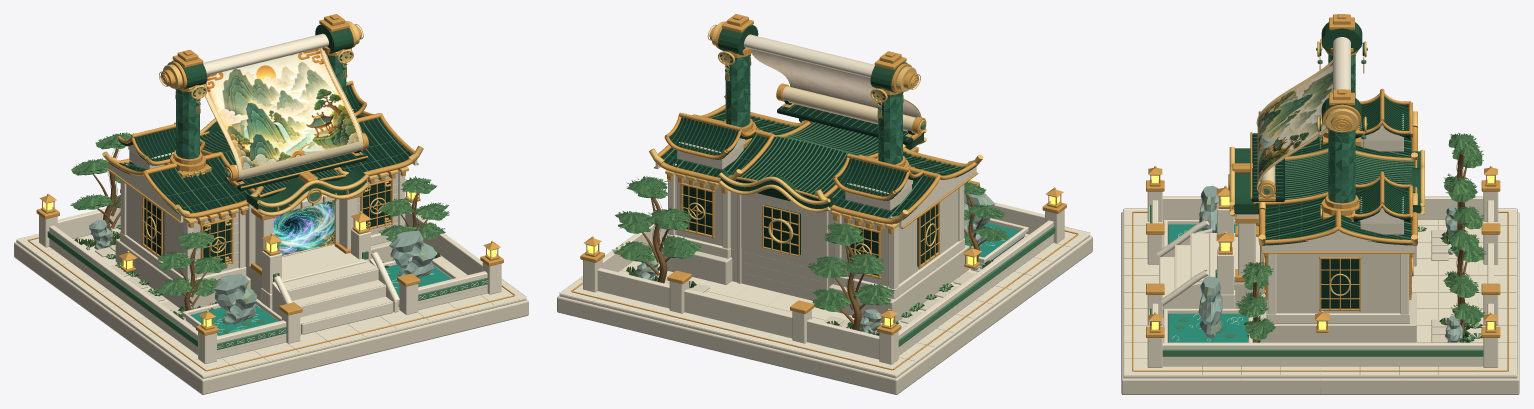
File: relic-v20.glb
3 views of the same model, side by side, from view 1: azimuth 30°, elevation 25°; view 2: azimuth 150°, elevation 25°; view 3: azimuth 270°, elevation 25° (orthographic). The views are drawn at different scales.
Parts seen in each view (by area): view 1: GEO-export-MAT-relic-cream.019, GEO-export-MAT-relic-ivory.019, GEO-export-MAT-relic-rolled-front-v16.008, GEO-export-MAT-relic-gold.019, GEO-export-MAT-relic-jade-dark.019, GEO-export-MAT-relic-v20-needle-mid, GEO-export-MAT-relic-jade-light.019, GEO-export-MAT-relic-gold-light.019, GEO-export-MAT-relic-rock.019, GEO-export-MAT-relic-jade.019, GEO-export-MAT-relic-v17-portal-energy.006, GEO-export-MAT-relic-v20-needle-lit (+8 smaller); view 2: GEO-export-MAT-relic-cream.019, GEO-export-MAT-relic-ivory.019, GEO-export-MAT-relic-jade-dark.019, GEO-export-MAT-relic-gold.019, GEO-export-MAT-relic-v20-needle-mid, GEO-export-MAT-relic-jade-light.019, GEO-export-MAT-relic-gold-light.019, GEO-export-MAT-relic-scroll-painted-back.012, GEO-export-MAT-relic-jade-mid.019, GEO-export-MAT-relic-v20-needle-lit, GEO-export-MAT-relic-jade.019, GEO-export-MAT-relic-wood.019 (+8 smaller); view 3: GEO-export-MAT-relic-cream.019, GEO-export-MAT-relic-ivory.019, GEO-export-MAT-relic-gold.019, GEO-export-MAT-relic-jade-dark.019, GEO-export-MAT-relic-jade-light.019, GEO-export-MAT-relic-v20-needle-mid, GEO-export-MAT-relic-rolled-front-v16.008, GEO-export-MAT-relic-jade-mid.019, GEO-export-MAT-relic-gold-light.019, GEO-export-MAT-relic-jade.019, GEO-export-MAT-relic-rock.019, GEO-export-MAT-relic-v20-needle-lit (+8 smaller).
Boxes of the visible parts, <box> form: GEO-export-MAT-relic-cream.019: <box>16,33,526,378</box>; GEO-export-MAT-relic-ivory.019: <box>14,109,528,394</box>; GEO-export-MAT-relic-rolled-front-v16.008: <box>203,47,363,179</box>; GEO-export-MAT-relic-gold.019: <box>27,14,515,371</box>; GEO-export-MAT-relic-jade-dark.019: <box>108,85,411,263</box>; GEO-export-MAT-relic-v20-needle-mid: <box>70,132,449,296</box>; GEO-export-MAT-relic-jade-light.019: <box>47,55,488,349</box>; GEO-export-MAT-relic-gold-light.019: <box>42,21,498,319</box>; GEO-export-MAT-relic-rock.019: <box>86,220,436,327</box>; GEO-export-MAT-relic-jade.019: <box>171,24,366,212</box>; GEO-export-MAT-relic-v17-portal-energy.006: <box>273,200,334,255</box>; GEO-export-MAT-relic-v20-needle-lit: <box>71,134,449,296</box>; GEO-export-MAT-relic-cream.019: <box>559,34,1090,378</box>; GEO-export-MAT-relic-ivory.019: <box>557,142,1092,394</box>; GEO-export-MAT-relic-jade-dark.019: <box>661,100,976,275</box>; GEO-export-MAT-relic-gold.019: <box>571,14,1078,370</box>; GEO-export-MAT-relic-v20-needle-mid: <box>612,176,1008,311</box>; GEO-export-MAT-relic-jade-light.019: <box>664,54,1055,346</box>; GEO-export-MAT-relic-gold-light.019: <box>585,21,1060,318</box>; GEO-export-MAT-relic-scroll-painted-back.012: <box>751,49,919,117</box>; GEO-export-MAT-relic-jade-mid.019: <box>665,116,965,217</box>; GEO-export-MAT-relic-v20-needle-lit: <box>616,178,1007,311</box>; GEO-export-MAT-relic-jade.019: <box>718,25,923,208</box>; GEO-export-MAT-relic-wood.019: <box>641,194,986,330</box>; GEO-export-MAT-relic-cream.019: <box>1123,37,1517,378</box>; GEO-export-MAT-relic-ivory.019: <box>1121,114,1519,394</box>; GEO-export-MAT-relic-gold.019: <box>1132,14,1508,371</box>; GEO-export-MAT-relic-jade-dark.019: <box>1251,98,1414,308</box>; GEO-export-MAT-relic-jade-light.019: <box>1150,48,1483,356</box>; GEO-export-MAT-relic-v20-needle-mid: <box>1236,133,1486,339</box>; GEO-export-MAT-relic-rolled-front-v16.008: <box>1257,61,1332,184</box>; GEO-export-MAT-relic-jade-mid.019: <box>1265,96,1411,239</box>; GEO-export-MAT-relic-gold-light.019: <box>1149,39,1496,321</box>; GEO-export-MAT-relic-jade.019: <box>1234,22,1421,214</box>; GEO-export-MAT-relic-rock.019: <box>1167,185,1473,342</box>; GEO-export-MAT-relic-v20-needle-lit: <box>1235,133,1483,339</box>.
Bounding box in the file's own units: 10 × 7.16 × 10.
Materials: 32 (3 with a texture image).
